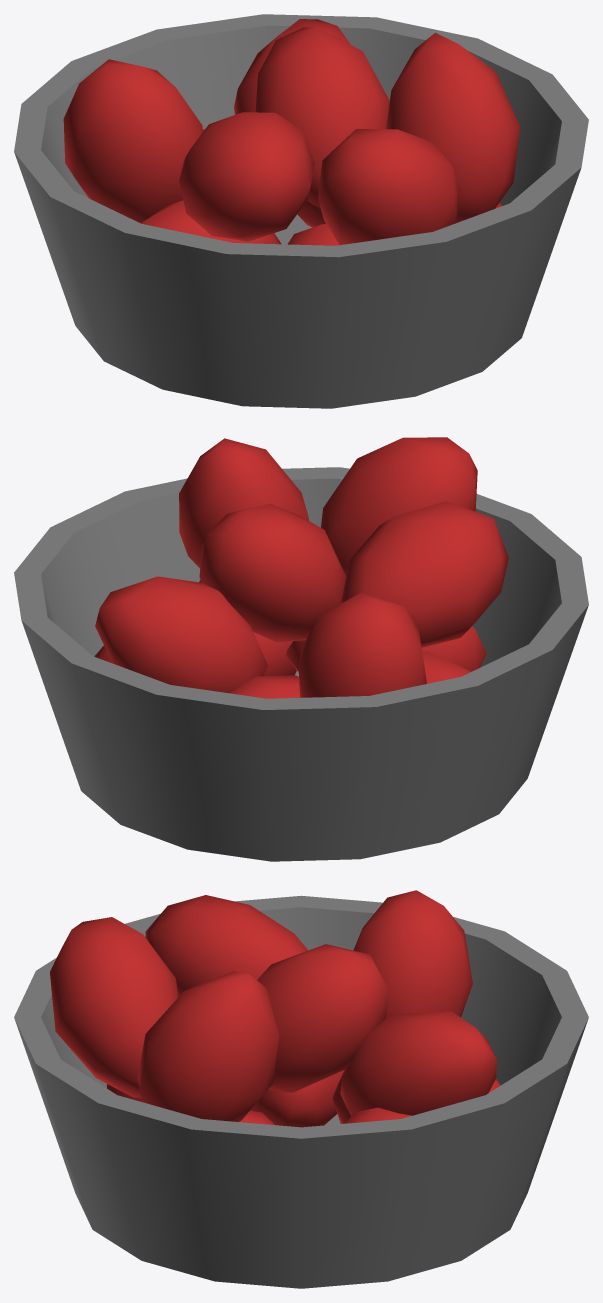
File: SM_basket_fruits_02.fbx
3 views of the same model, one above another, from view 1: azimuth 30°, elevation 25°; view 2: azimuth 150°, elevation 25°; view 3: azimuth 270°, elevation 25° (orthographic).
Parts seen in each view (by area): view 1: Cylinder424354; view 2: Cylinder424354; view 3: Cylinder424354.
Part boxes in pixels (left/top/right/bottom): Cylinder424354: left=14, top=14, right=588, bottom=408; Cylinder424354: left=14, top=437, right=588, bottom=861; Cylinder424354: left=14, top=890, right=588, bottom=1288.
Bounding box in the file's own units: 23.96 × 12.45 × 23.96.
